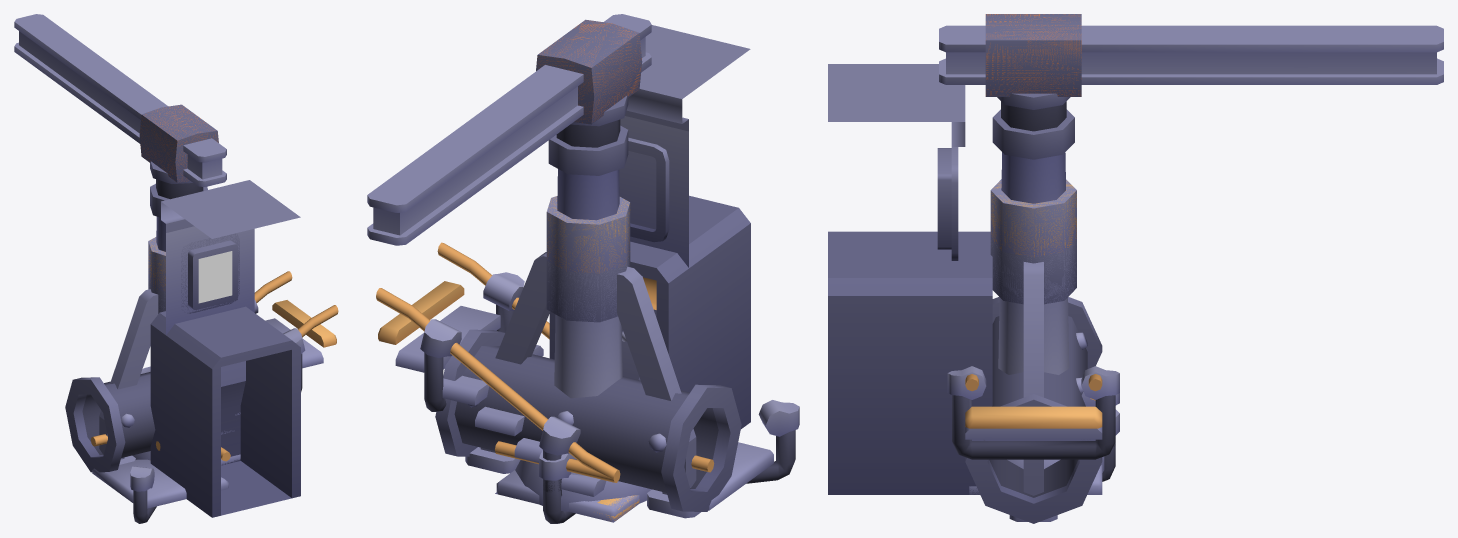
File: arch_fac.glb
3 views of the same model, side by side, from view 1: azimuth 30°, elevation 25°; view 2: azimuth 150°, elevation 25°; view 3: azimuth 270°, elevation 25° (orthographic). The views are drawn at different scales.
Visible parts, largest first — view 1: structure-doorway, arm, structure-wall, pipe-large-long, structure-window, crane, catwalk-corner, catwalk-stairs; view 2: crane, arm, pipe-large-long, structure-doorway, catwalk-stairs, structure-wall, catwalk-straight, catwalk-corner, structure-window; view 3: structure-doorway, arm, crane, catwalk-stairs, pipe-large-long, structure-wall, structure-window, catwalk-straight.
Part boxes in pixels (x1,y1,x2,y2): structure-doorway: [150, 228, 300, 517]; arm: [14, 14, 226, 186]; structure-wall: [161, 180, 300, 465]; pipe-large-long: [65, 372, 155, 472]; structure-window: [166, 227, 254, 334]; crane: [99, 179, 207, 464]; catwalk-corner: [91, 434, 230, 523]; catwalk-stairs: [141, 271, 338, 448]; crane: [465, 119, 700, 518]; arm: [367, 14, 651, 245]; pipe-large-long: [435, 329, 741, 511]; structure-doorway: [496, 117, 750, 522]; catwalk-stairs: [376, 242, 639, 521]; structure-wall: [495, 25, 750, 522]; catwalk-straight: [495, 441, 639, 523]; catwalk-corner: [691, 400, 799, 510]; structure-window: [620, 117, 688, 380]; structure-doorway: [828, 231, 1101, 494]; arm: [939, 14, 1443, 109]; crane: [990, 101, 1104, 521]; catwalk-stairs: [947, 366, 1119, 459]; pipe-large-long: [965, 297, 1102, 523]; structure-wall: [828, 64, 1102, 494]; structure-window: [937, 147, 958, 260]; catwalk-straight: [969, 409, 1119, 494].
Bounding box in the file's own units: 2.65 × 3.7 × 4.49.
Materials: 1 (1 with a texture image).
